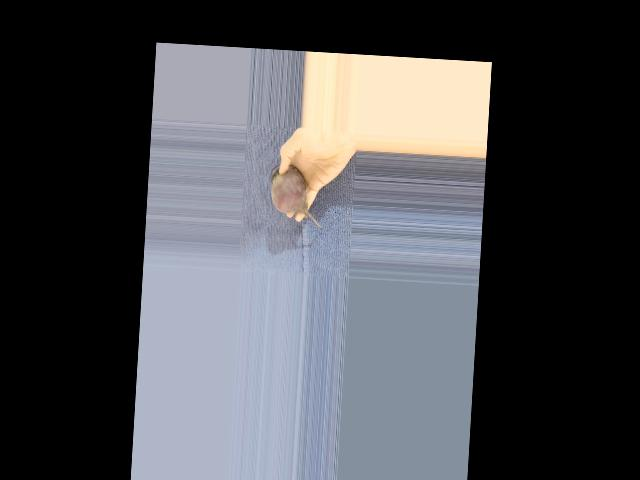beet: (267, 164, 325, 227)
